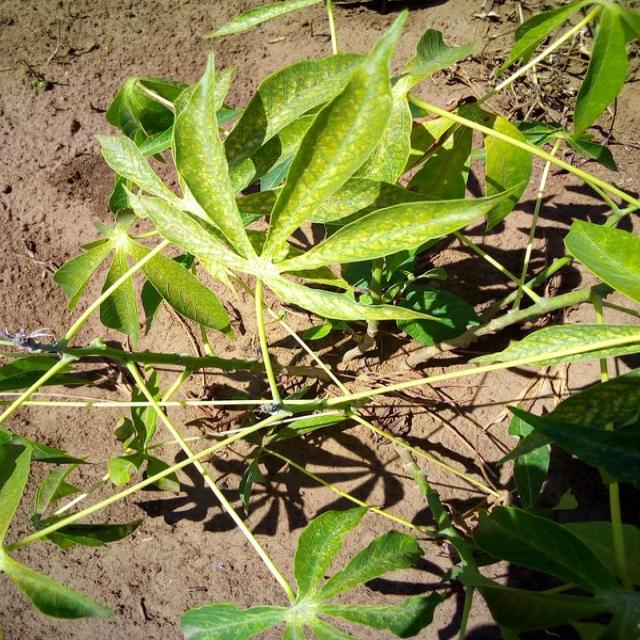cassava leaf: (170, 50, 256, 264)
